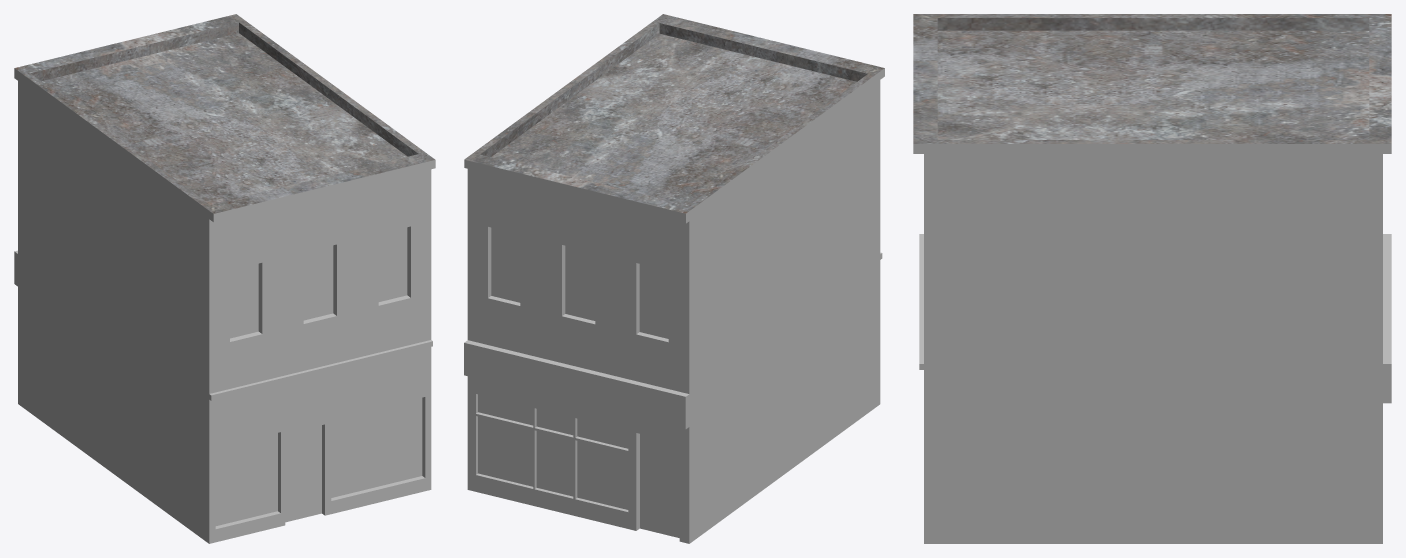
3 views of the same model, side by side, from view 1: azimuth 30°, elevation 25°; view 2: azimuth 150°, elevation 25°; view 3: azimuth 270°, elevation 25° (orthographic). The views are drawn at different scales.
Parts seen in each view (by area): view 1: B30; view 2: B30; view 3: B30.
Boxes of the visible parts, box(x1,y1,x2,y2) form: B30: box(14, 14, 435, 543); B30: box(464, 14, 884, 543); B30: box(913, 14, 1391, 543).
Size of the model in its own units: 816 by 1171 by 1269.
